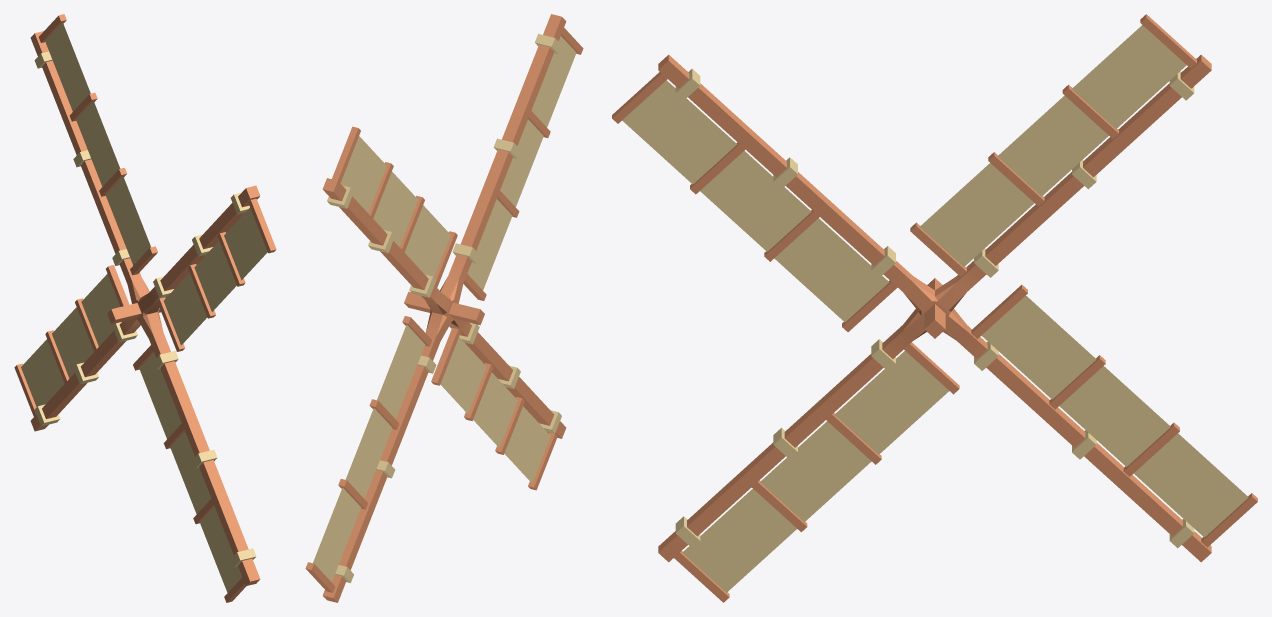
The model's file is windmill.obj.
3 renders of one model, left to right at view 1: azimuth 30°, elevation 25°; view 2: azimuth 150°, elevation 25°; view 3: azimuth 270°, elevation 25°, orthographic. The views are drawn at different scales.
Parts seen in each view (by area): view 1: windmill; view 2: windmill; view 3: windmill.
Part boxes in pixels (x1,y1,x2,y2): windmill: (14, 14, 276, 602); windmill: (305, 14, 583, 602); windmill: (612, 14, 1257, 602).
Size of the model in its own units: 0.471 by 3.07 by 3.07.
